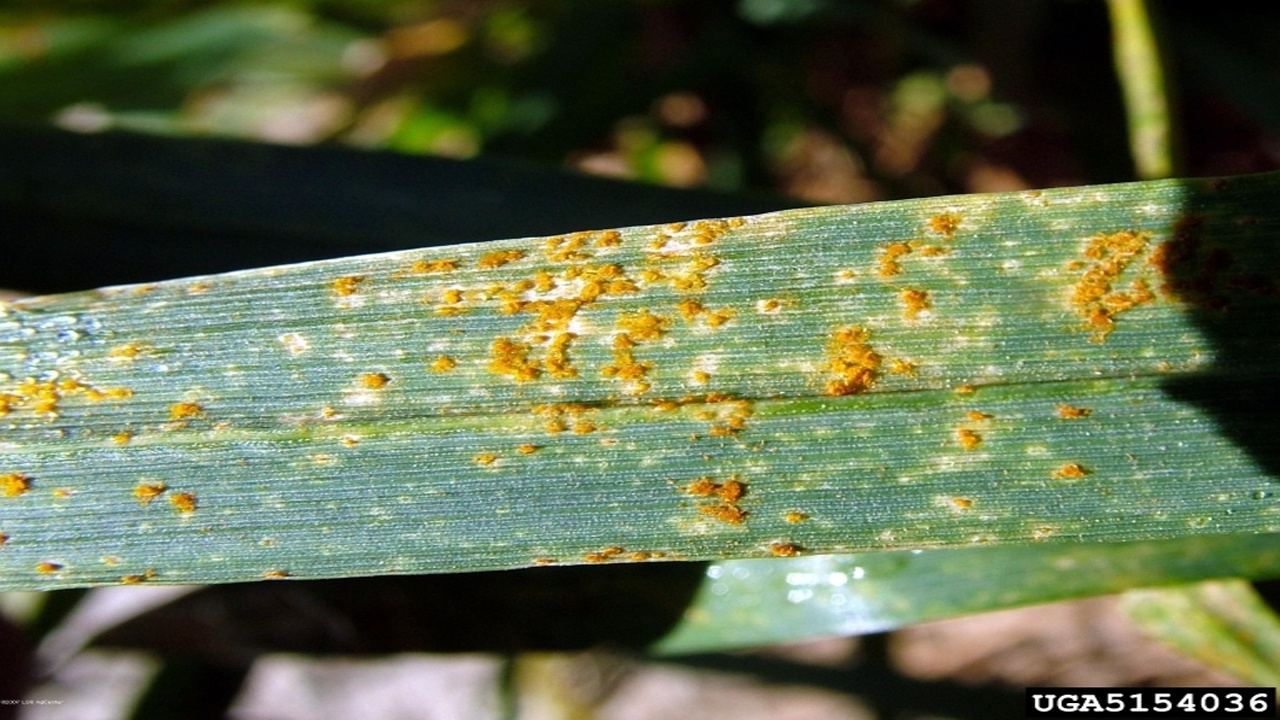leaf_rust: (1, 181, 1280, 596)
